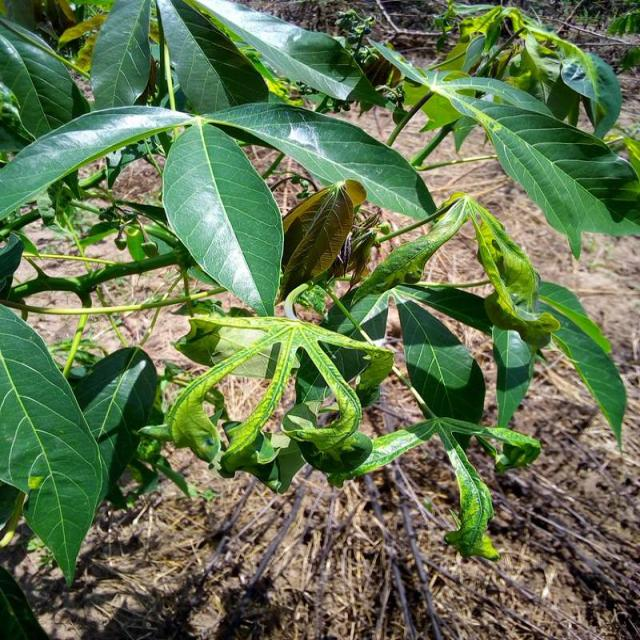cassava leaf: (1, 1, 637, 581), (0, 302, 106, 588), (161, 119, 284, 317)
